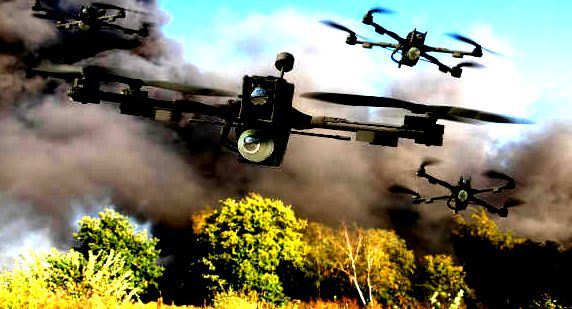Drone: (67, 48, 539, 169), (317, 5, 497, 78), (385, 156, 532, 220), (36, 2, 155, 45)
